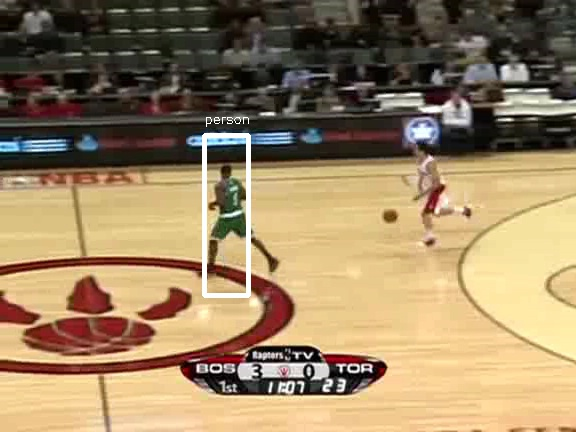person: (215, 169, 249, 250), (214, 169, 248, 250), (216, 169, 250, 250), (215, 168, 249, 249), (215, 170, 249, 251)
target_negative: (208, 40, 559, 344), (383, 170, 500, 405), (450, 129, 566, 240), (33, 285, 134, 400), (422, 2, 449, 234), (30, 255, 40, 315)
